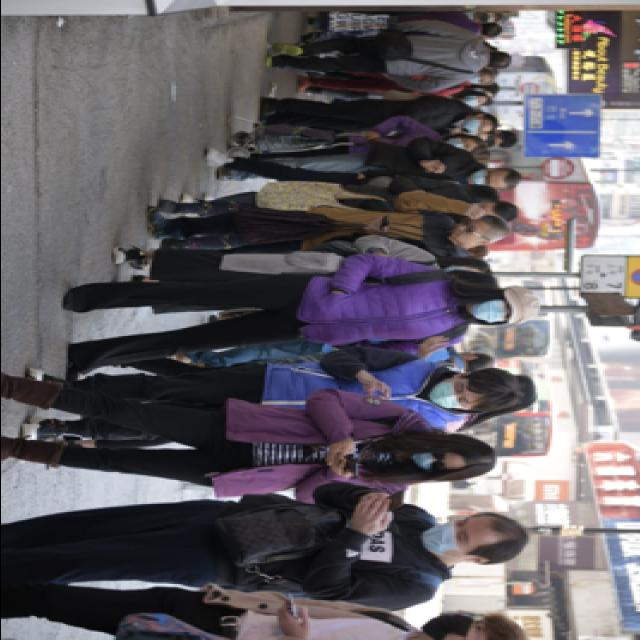mask: (422, 515, 477, 555), (422, 612, 494, 638), (410, 444, 453, 474), (432, 378, 474, 408), (470, 299, 510, 323), (470, 168, 496, 186), (463, 117, 489, 131), (462, 92, 487, 106), (448, 134, 472, 148), (468, 69, 487, 85)
no_mask: (451, 218, 482, 242)
